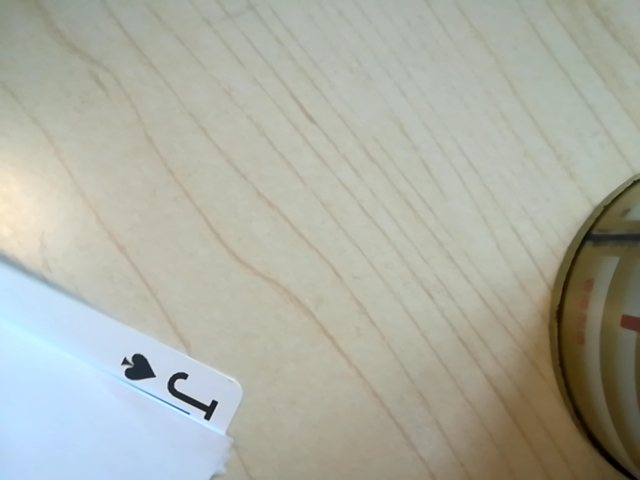ht j: (109, 347, 243, 430)
